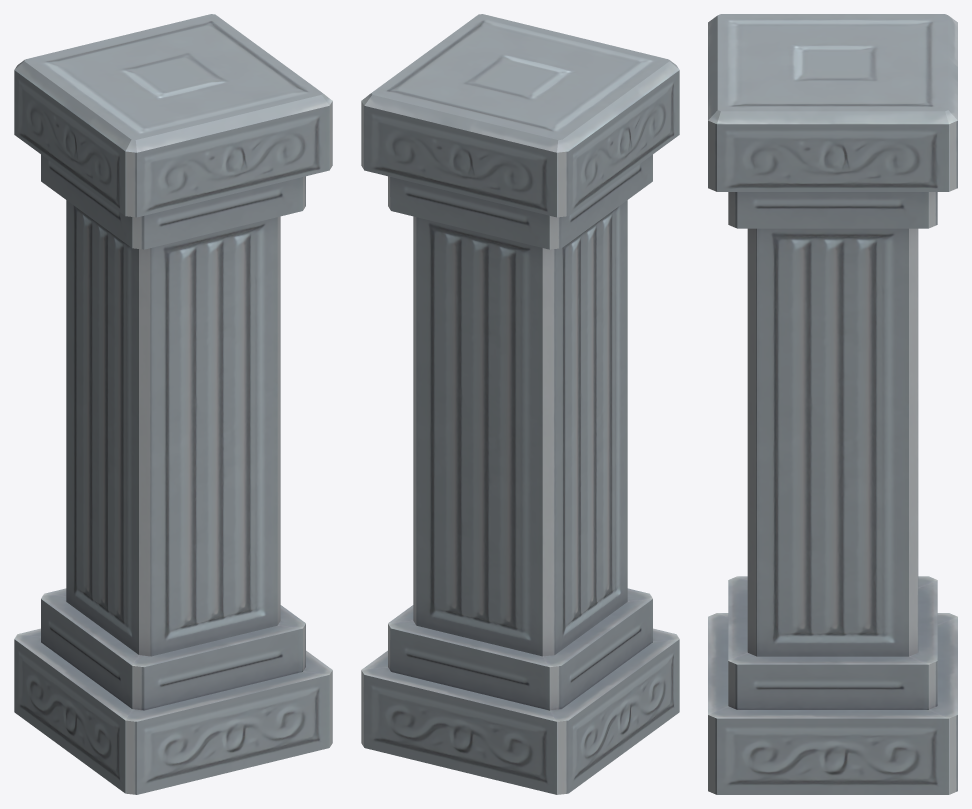
The model's file is Pillar_HD.fbx.
The picture shows the model from 3 angles, left to right: view 1: azimuth 30°, elevation 25°; view 2: azimuth 150°, elevation 25°; view 3: azimuth 270°, elevation 25°; orthographic projection. The views are drawn at different scales.
Parts seen in each view (by area): view 1: pillar; view 2: pillar; view 3: pillar.
Boxes of the visible parts, x1,y1,x2,y2 form: pillar: (14, 14, 332, 794); pillar: (361, 14, 679, 794); pillar: (708, 14, 957, 794).
Size of the model in its own units: 1 by 3 by 1.
